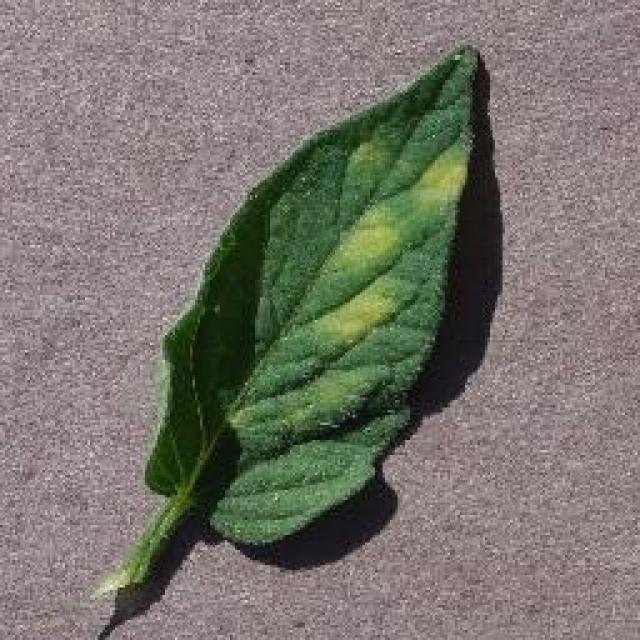Tomato mold leaf: (143, 43, 486, 547)
